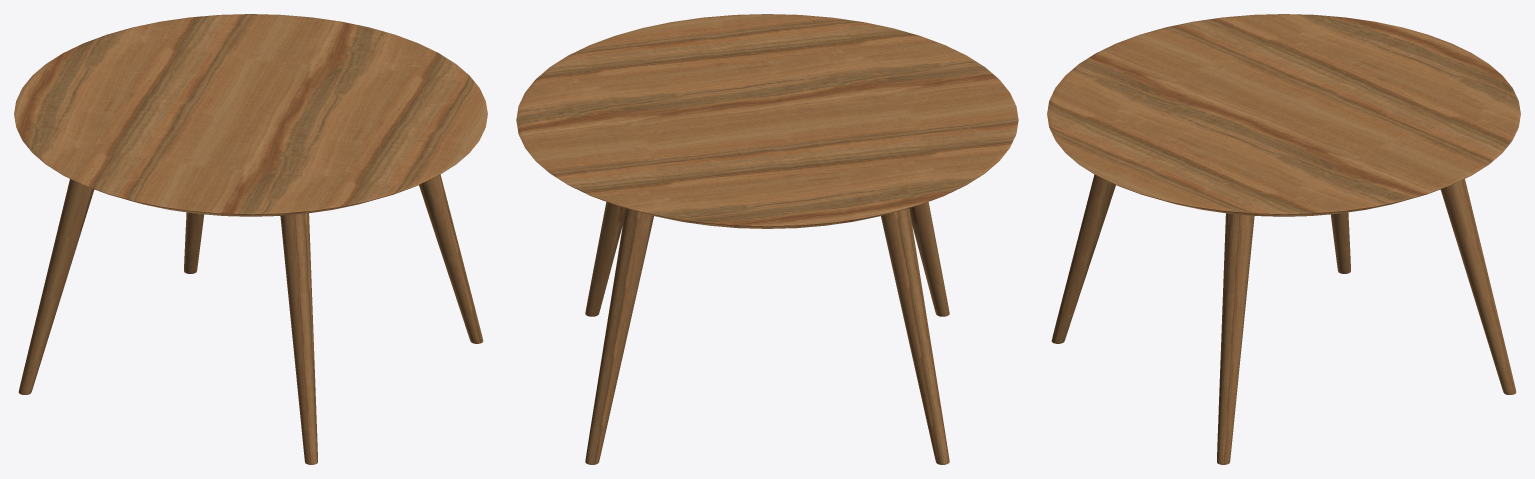
Rendered from table.glb.
3 views of the same model, side by side, from view 1: azimuth 30°, elevation 25°; view 2: azimuth 150°, elevation 25°; view 3: azimuth 270°, elevation 25° (orthographic). The views are drawn at different scales.
Parts seen in each view (by area): view 1: Cylinder, Cylinder.001; view 2: Cylinder, Cylinder.001; view 3: Cylinder, Cylinder.001.
Part boxes in pixels (x1,y1,x2,y2): Cylinder: [14, 14, 487, 216]; Cylinder.001: [18, 174, 483, 464]; Cylinder: [516, 14, 1018, 228]; Cylinder.001: [585, 202, 949, 464]; Cylinder: [1047, 14, 1520, 216]; Cylinder.001: [1051, 174, 1516, 464].
Size of the model in its own units: 1.42 by 0.8378 by 1.42.
1 material, 1 textured.
